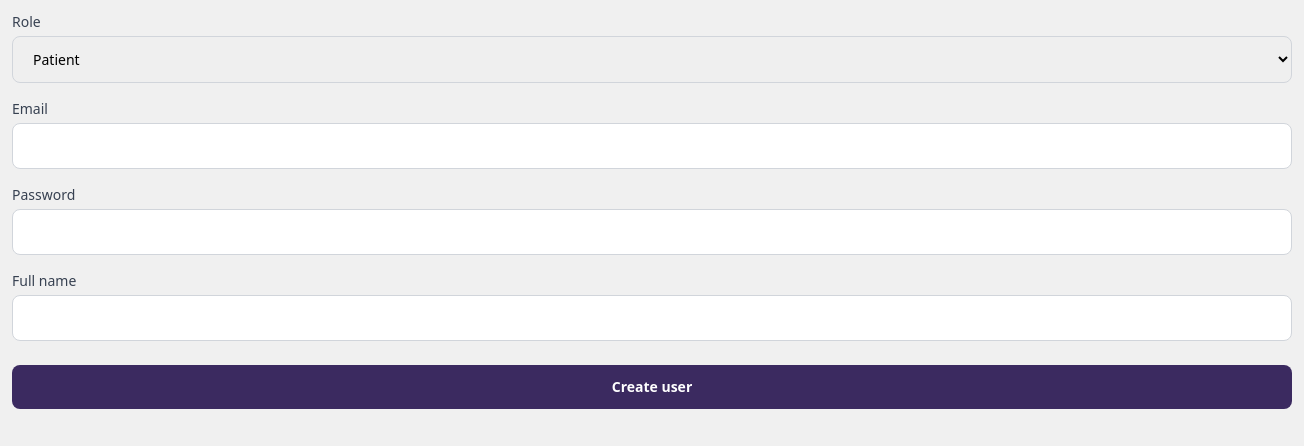
CreateUserForm › shows validation error when fullName is missing for PATIENT
The image size is (1304, 446).
Select "Patient" in the dropdown labelled "Role" at x=652, y=60, box [12,36,1292,83]
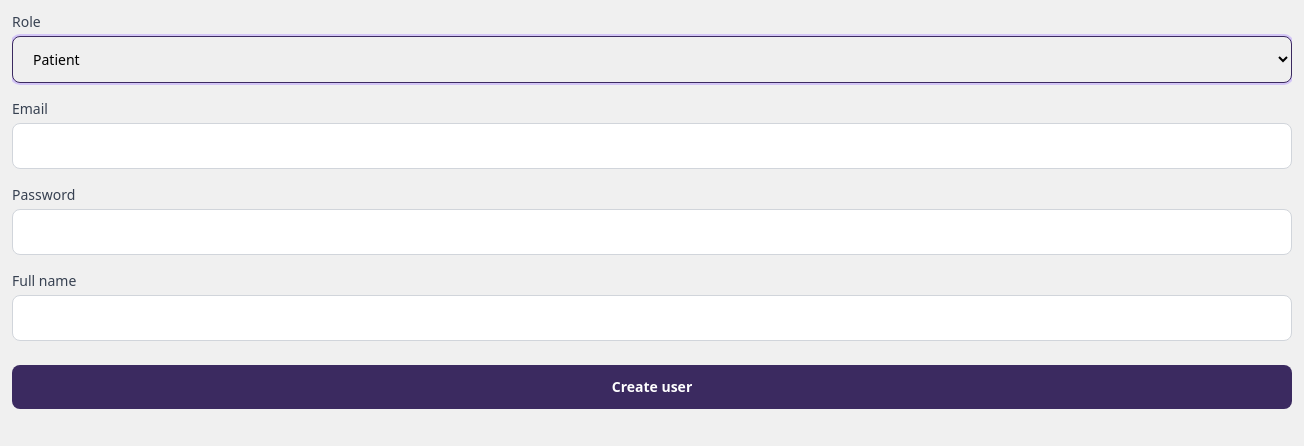
Type "patient@test.com" into the field labelled "Email" at x=652, y=146, box [12,123,1292,169]
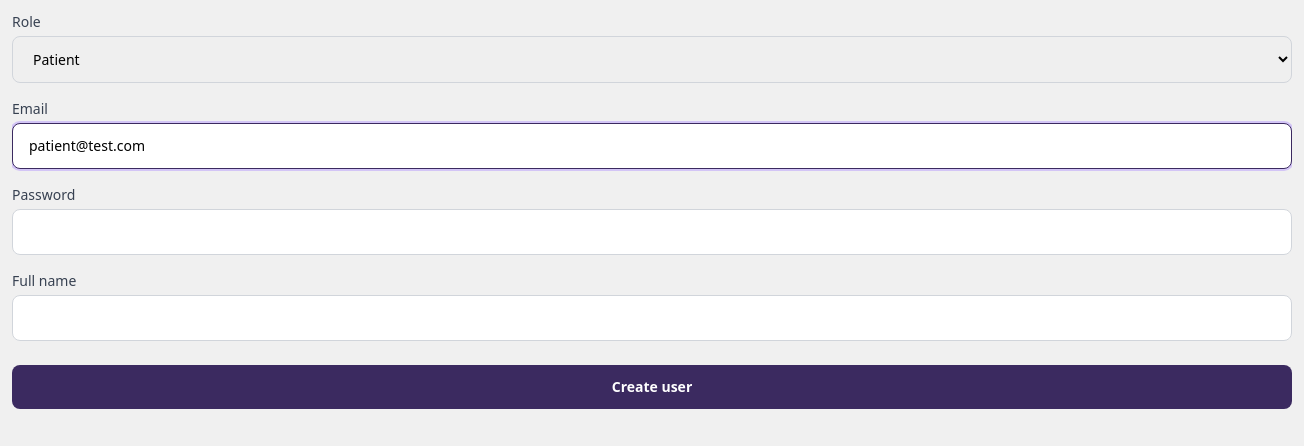
Type "secret123" into the password field labelled "Password" at x=652, y=232, box [12,209,1292,255]
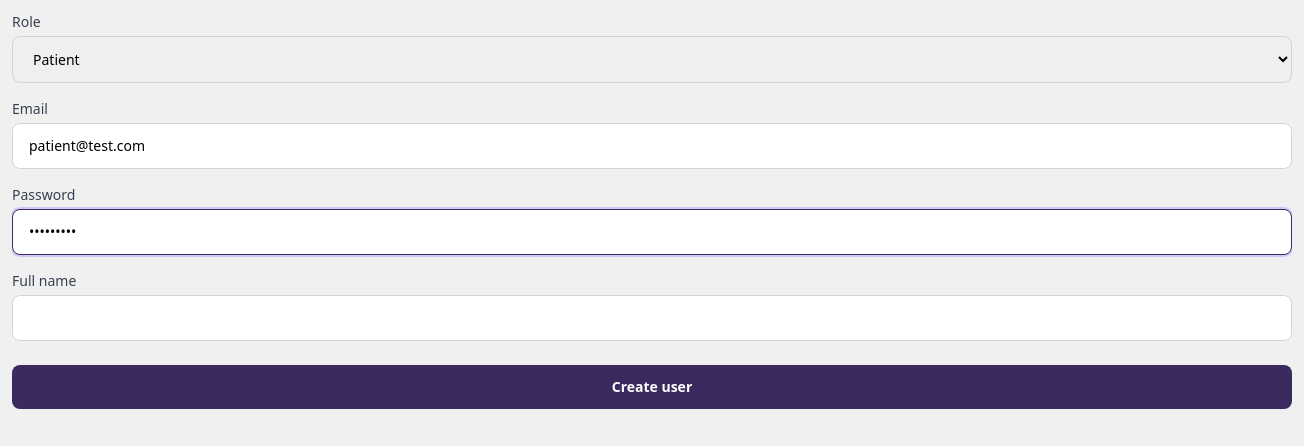
Click the button "Create user" at x=652, y=387, box [12,365,1292,409]
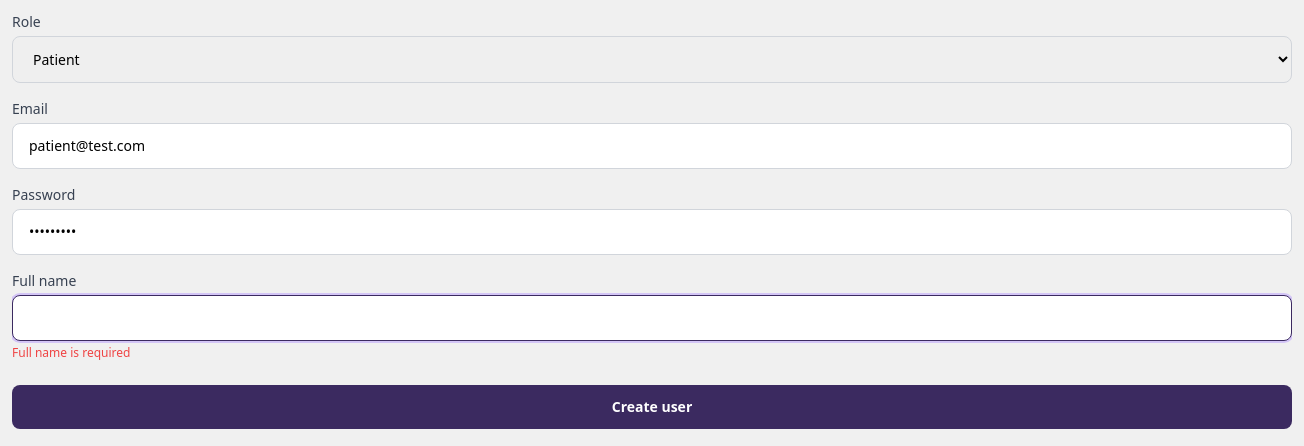
Result: the text "Full name is required" is shown at [12,344,130,361]
